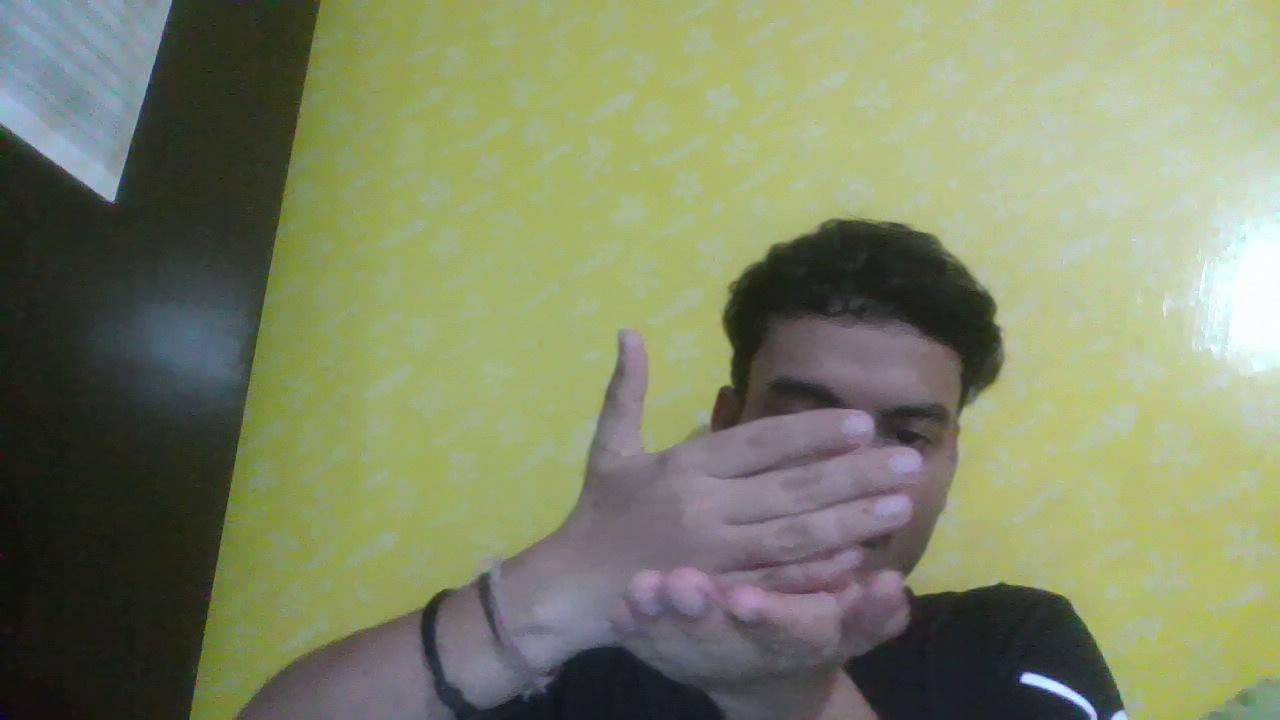stop: (531, 312, 944, 706)
